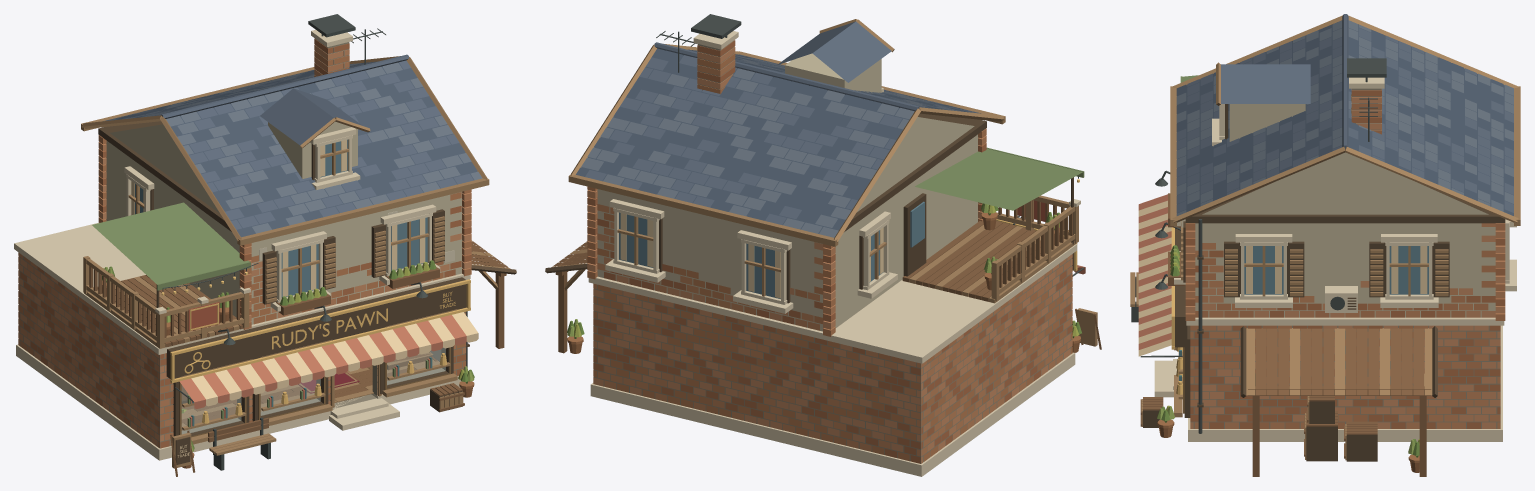
The model's file is SM_RudyPawnshop.fbx.
The picture shows the model from 3 angles, left to right: view 1: azimuth 30°, elevation 25°; view 2: azimuth 150°, elevation 25°; view 3: azimuth 270°, elevation 25°; orthographic projection. The views are drawn at different scales.
Visible parts, largest first — view 1: RUDY_22_Slate_Tiles.001, RUDY_03_Lower_Brick_Left.001, RUDY_15_Striped_Awning.001, RUDY_01_Upper_House.001, RUDY_07_Upper_Front.001, RUDY_13_Signboard.001, RUDY_02_Stone_Courses.001, RUDY_19_Terrace_Canopy.001, RUDY_24_Roof_Trim.001, RUDY_01_Ground_Mass.001, RUDY_21_Main_Roof.001, RUDY_17_Terrace_Rails.001 (+26 smaller); view 2: RUDY_22_Slate_Tiles.001, RUDY_03_Lower_Brick_Rear.001, RUDY_01_Upper_House.001, RUDY_03_Lower_Brick_Left.001, RUDY_01_Ground_Mass.001, RUDY_02_Stone_Courses.001, RUDY_08_Rear_Windows.001, RUDY_24_Roof_Trim.001, RUDY_21_Main_Roof.001, RUDY_02_Stone_Base.001, RUDY_19_Terrace_Canopy.001, RUDY_16_Terrace_Deck.001 (+13 smaller); view 3: RUDY_22_Slate_Tiles.001, RUDY_03_Lower_Brick_Right.001, RUDY_31_LeanTo_Planks.001, RUDY_01_Upper_House.001, RUDY_08_Right_Windows.001, RUDY_23_Gable_Plaster.001, RUDY_21_Main_Roof.001, RUDY_24_Roof_Trim.001, RUDY_02_Stone_Courses.001, RUDY_04_Exposed_Brick_Right.001, RUDY_01_Ground_Mass.001, RUDY_15_Striped_Awning.001 (+17 smaller).
Part boxes in pixels (<box>): RUDY_22_Slate_Tiles.001: <box>103,60,482,237</box>; RUDY_03_Lower_Brick_Left.001: <box>18,252,159,447</box>; RUDY_15_Striped_Awning.001: <box>179,312,478,409</box>; RUDY_01_Upper_House.001: <box>106,141,462,324</box>; RUDY_07_Upper_Front.001: <box>262,204,444,311</box>; RUDY_13_Signboard.001: <box>166,277,466,378</box>; RUDY_02_Stone_Courses.001: <box>14,121,470,354</box>; RUDY_19_Terrace_Canopy.001: <box>92,202,250,345</box>; RUDY_24_Roof_Trim.001: <box>81,54,489,245</box>; RUDY_01_Ground_Mass.001: <box>19,256,465,448</box>; RUDY_21_Main_Roof.001: <box>116,62,477,233</box>; RUDY_17_Terrace_Rails.001: <box>83,256,250,348</box>; RUDY_22_Slate_Tiles.001: <box>576,48,981,237</box>; RUDY_03_Lower_Brick_Rear.001: <box>593,283,920,463</box>; RUDY_01_Upper_House.001: <box>597,134,978,331</box>; RUDY_03_Lower_Brick_Left.001: <box>921,254,1072,463</box>; RUDY_01_Ground_Mass.001: <box>593,258,1071,463</box>; RUDY_02_Stone_Courses.001: <box>588,113,1077,363</box>; RUDY_08_Rear_Windows.001: <box>605,199,793,313</box>; RUDY_24_Roof_Trim.001: <box>568,42,1005,246</box>; RUDY_21_Main_Roof.001: <box>581,50,966,233</box>; RUDY_02_Stone_Base.001: <box>590,352,1075,476</box>; RUDY_19_Terrace_Canopy.001: <box>915,147,1084,244</box>; RUDY_16_Terrace_Deck.001: <box>902,221,1075,303</box>; RUDY_22_Slate_Tiles.001: <box>1176,20,1513,215</box>; RUDY_03_Lower_Brick_Right.001: <box>1190,325,1500,428</box>; RUDY_31_LeanTo_Planks.001: <box>1240,326,1437,397</box>; RUDY_01_Upper_House.001: <box>1195,223,1495,317</box>; RUDY_08_Right_Windows.001: <box>1224,234,1449,307</box>; RUDY_23_Gable_Plaster.001: <box>1202,152,1488,214</box>; RUDY_21_Main_Roof.001: <box>1177,24,1513,213</box>; RUDY_24_Roof_Trim.001: <box>1170,14,1520,225</box>; RUDY_02_Stone_Courses.001: <box>1185,184,1505,325</box>; RUDY_04_Exposed_Brick_Right.001: <box>1195,223,1495,317</box>; RUDY_01_Ground_Mass.001: <box>1190,325,1500,428</box>; RUDY_15_Striped_Awning.001: <box>1138,194,1171,356</box>.
Bounding box in the file's own units: 1267 × 1006 × 985.
